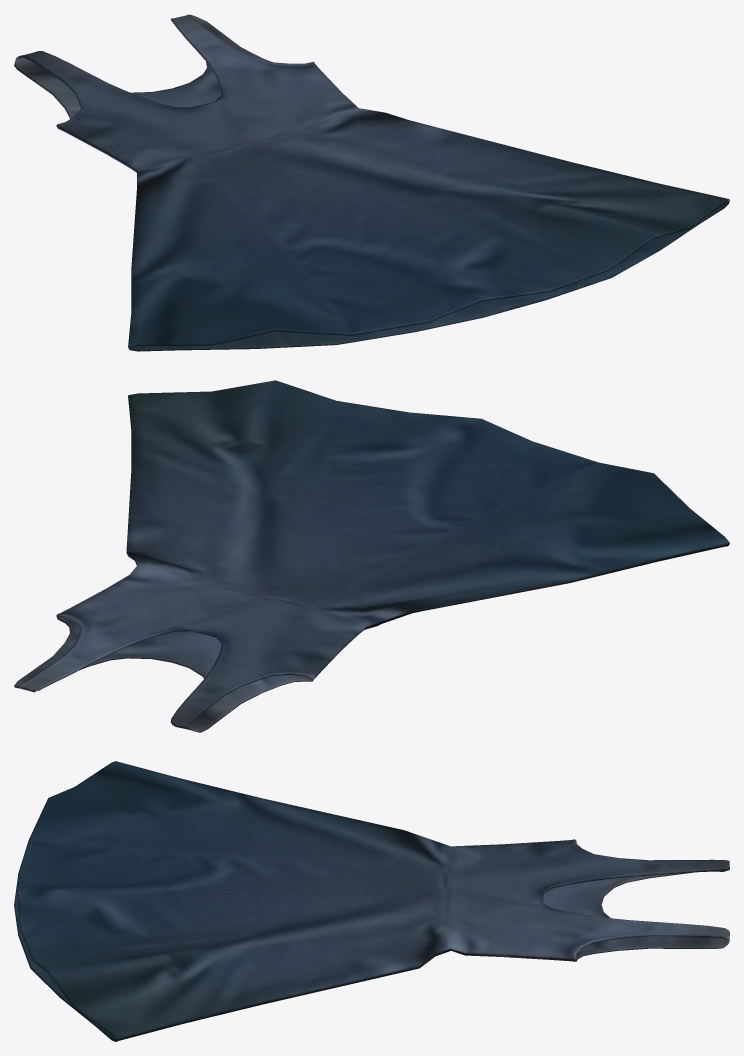
File: sweethome3d-scopia-dress-235.glb
3 renders of one model, top to bottom at view 1: azimuth 30°, elevation 25°; view 2: azimuth 150°, elevation 25°; view 3: azimuth 270°, elevation 25°, orthographic. The views are drawn at different scales.
Parts seen in each view (by area): view 1: Plane; view 2: Plane; view 3: Plane.
Boxes of the visible parts, x1,y1,x2,y2 form: Plane: [14, 14, 729, 351]; Plane: [14, 380, 729, 732]; Plane: [14, 761, 729, 1041].
Bounding box in the file's own units: 75.9 × 2.71 × 82.75.
1 material, 1 textured.
